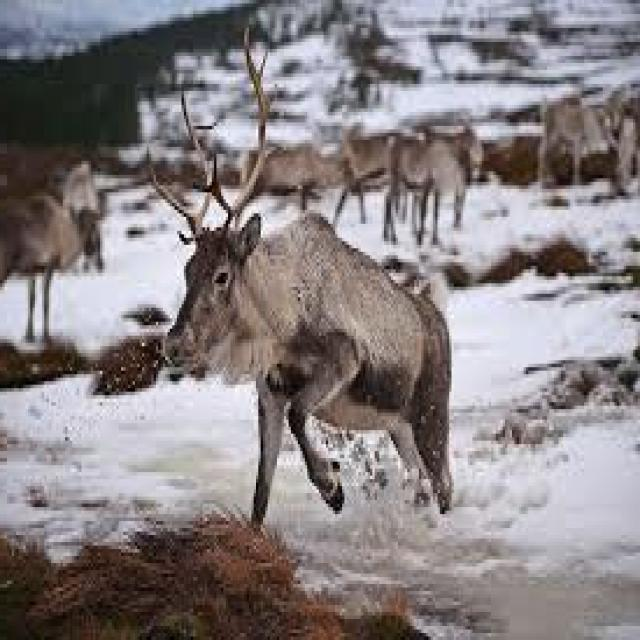reindeer: (154, 38, 451, 521)
